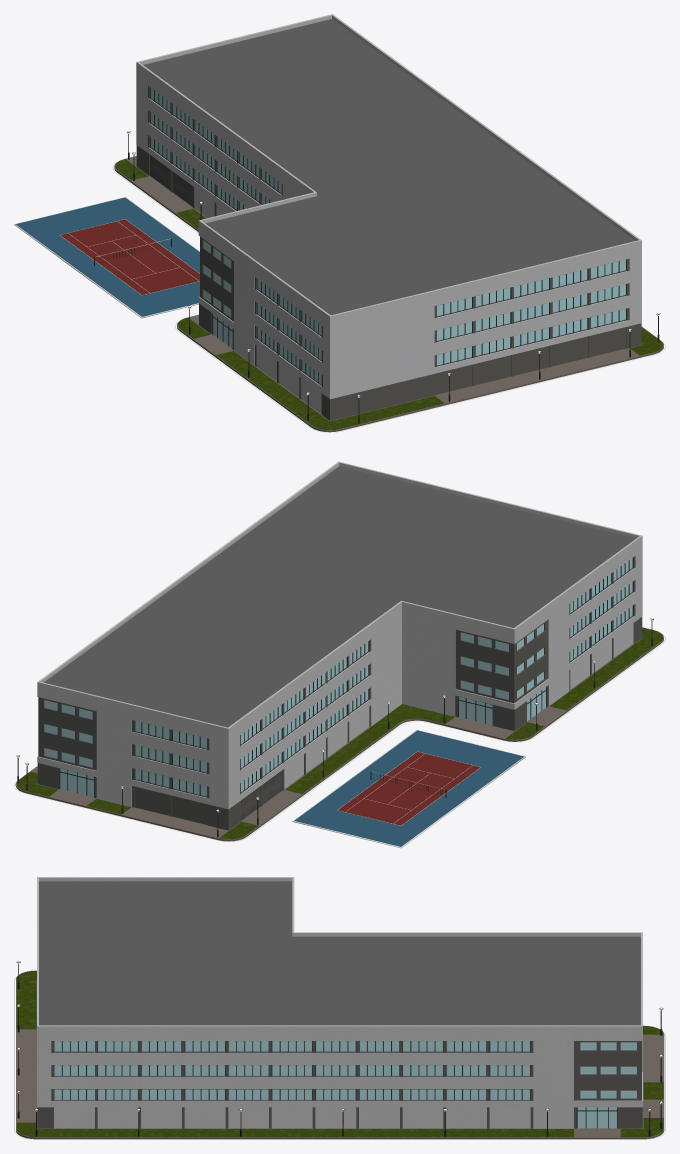
The picture shows the model from 3 angles, top to bottom: view 1: azimuth 30°, elevation 25°; view 2: azimuth 150°, elevation 25°; view 3: azimuth 270°, elevation 25°; orthographic projection. The views are drawn at different scales.
Parts seen in each view (by area): view 1: 平面.004, Layer:0_Material #19_0, 立方体.043, 立方体.044, dibiao.002; view 2: 平面.004, Layer:0_Material #19_0, 立方体.044, 立方体.043, dibiao.002, light.006; view 3: 平面.004, 立方体.044, 立方体.043, dibiao.002, light.006.
Part boxes in pixels (box(x1,y1,x2,y2)): 平面.004: box(136, 14, 641, 420); Layer:0_Material #19_0: box(14, 197, 199, 318); 立方体.043: box(114, 156, 663, 432); 立方体.044: box(115, 159, 663, 430); dibiao.002: box(112, 163, 665, 432); 平面.004: box(37, 461, 642, 830); Layer:0_Material #19_0: box(292, 730, 525, 848); 立方体.044: box(16, 627, 663, 839); 立方体.043: box(15, 627, 663, 841); dibiao.002: box(14, 634, 665, 841); light.006: box(16, 618, 653, 837); 平面.004: box(37, 877, 642, 1128); 立方体.044: box(16, 970, 663, 1137); 立方体.043: box(16, 970, 664, 1139); dibiao.002: box(14, 976, 665, 1139); light.006: box(16, 961, 663, 1136).
Size of what is drawn, in the model's own units: 61.08 by 16.93 by 96.03.
Materials: 13 (5 with a texture image).
